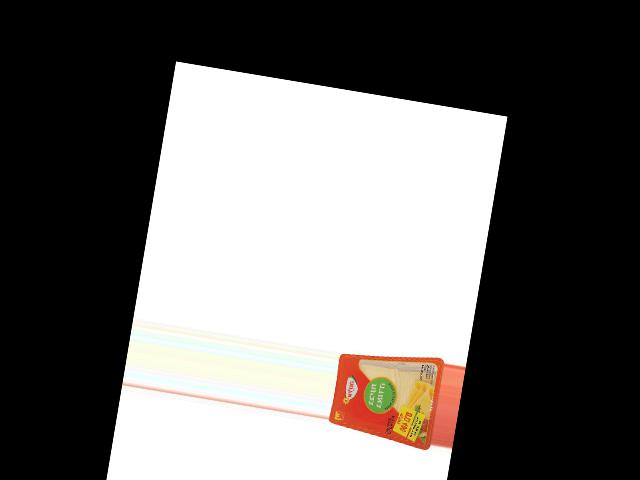cheese: (327, 342, 445, 451)
